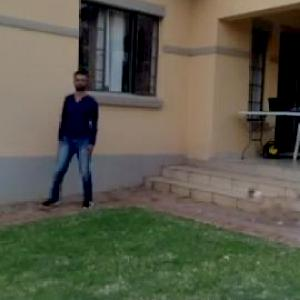follow: (66, 64, 111, 216)
